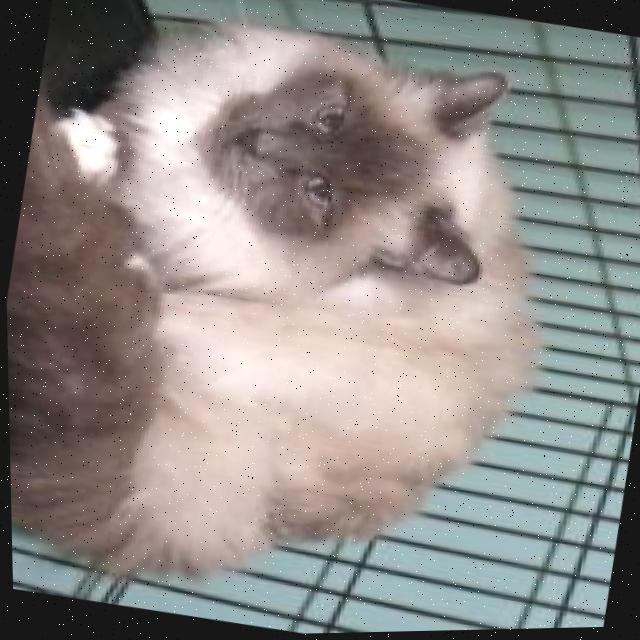Birman: (0, 0, 599, 640)
